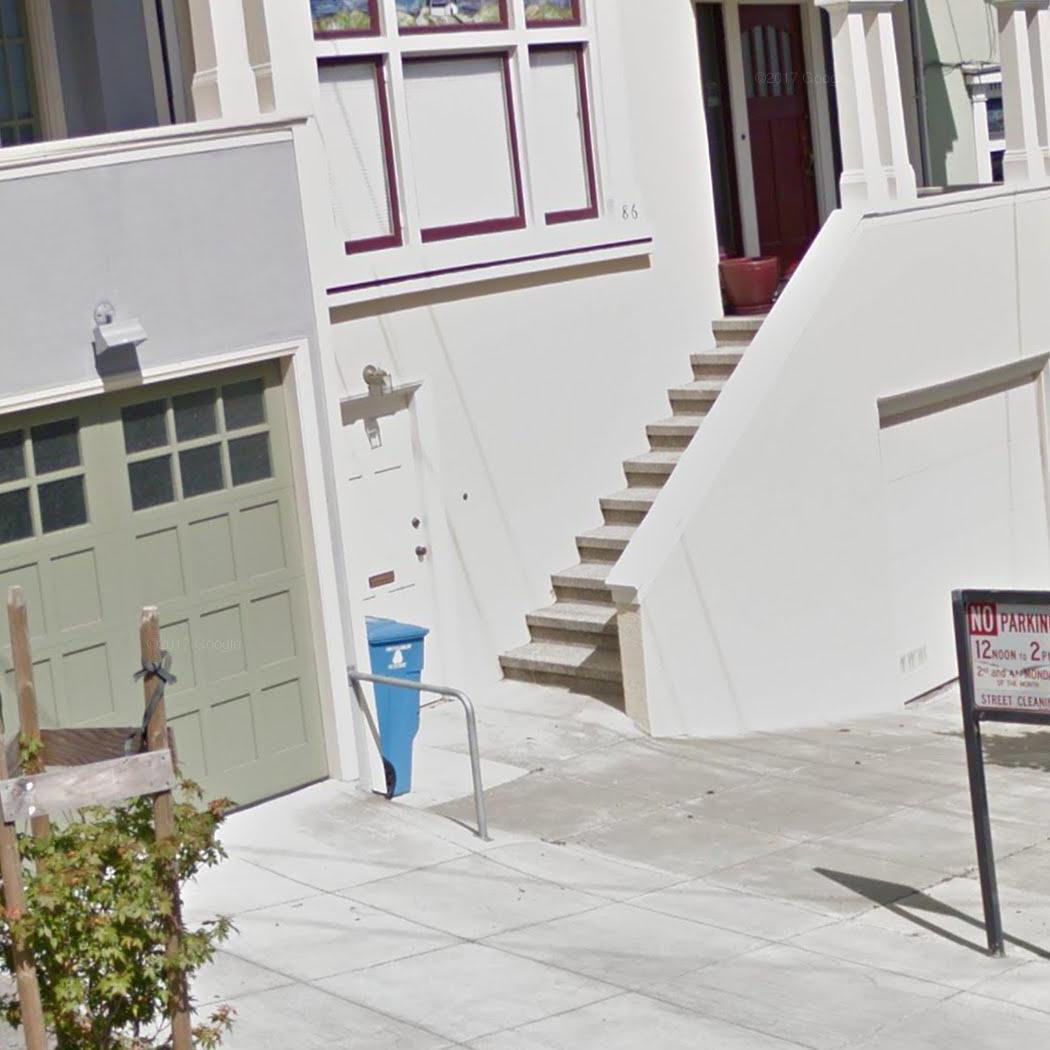No Parking: (951, 587, 1050, 715)
